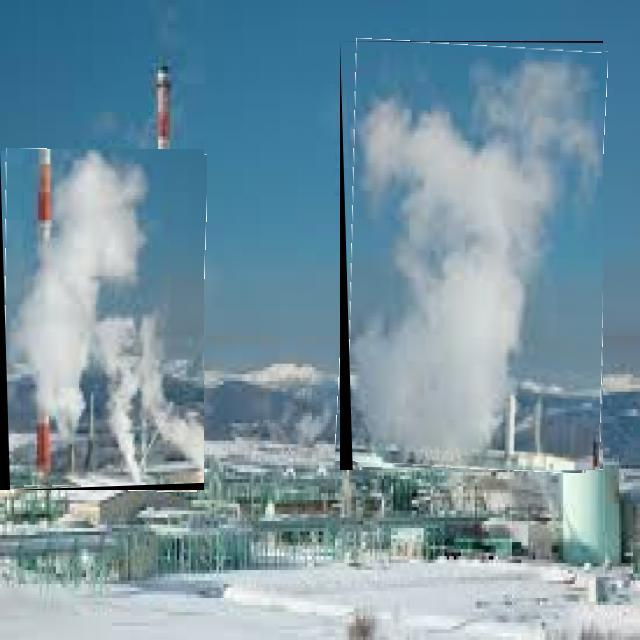smoke: (354, 98, 560, 246), (353, 248, 540, 388), (469, 64, 601, 207), (13, 243, 99, 428), (52, 152, 150, 286), (138, 316, 204, 472), (352, 390, 502, 458), (95, 316, 141, 482)
